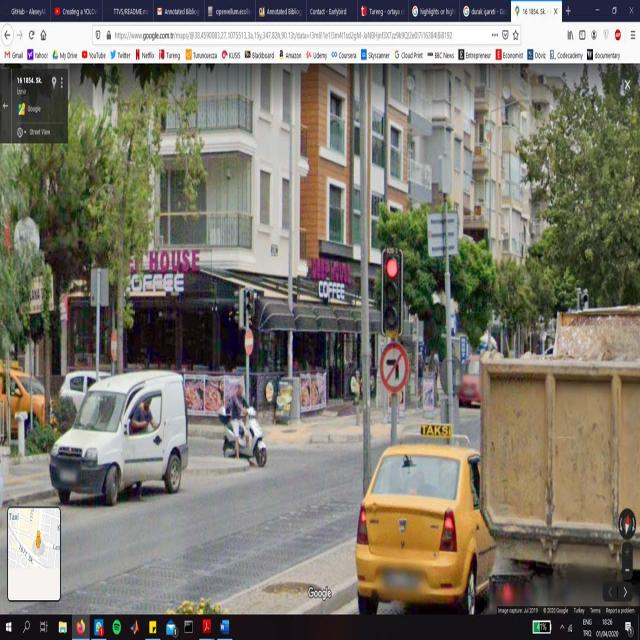girisyok: (110, 328, 120, 365), (244, 328, 254, 354)
kirmizi: (383, 250, 402, 334)
soladonulmez: (382, 340, 406, 393)
